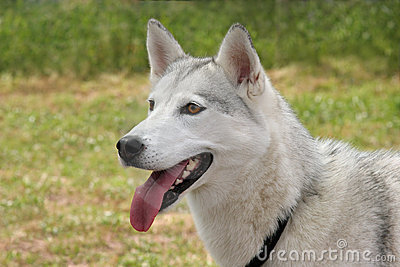dog: (115, 17, 399, 265)
